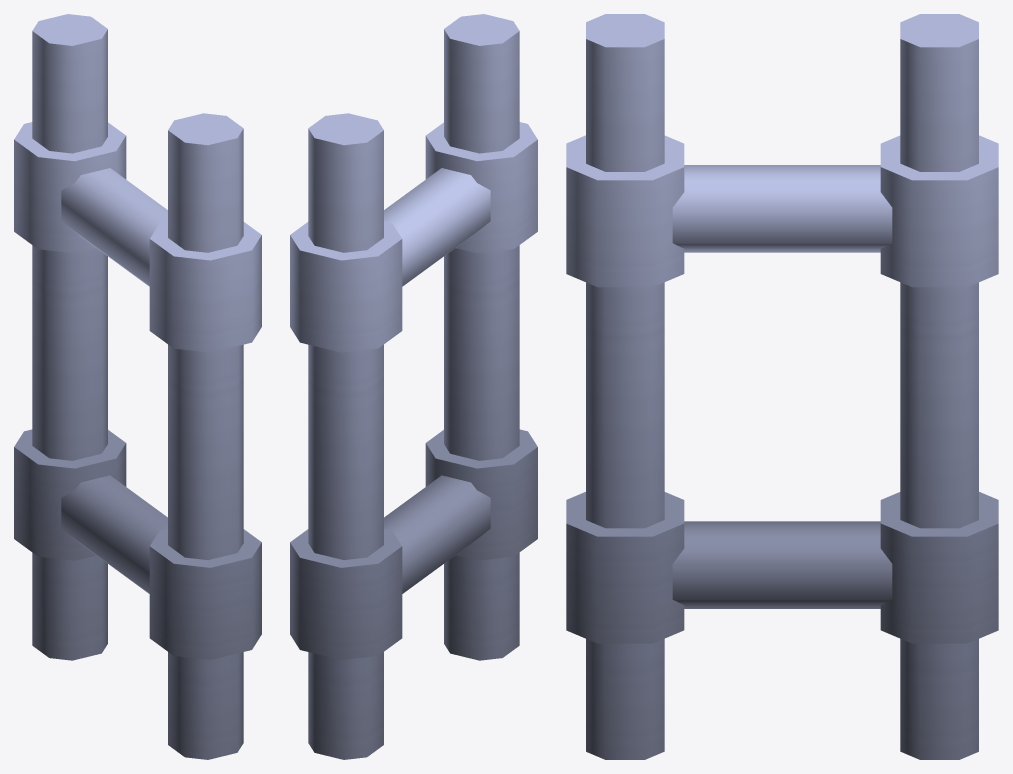
Rendered from ladder.fbx.
The picture shows the model from 3 angles, left to right: view 1: azimuth 30°, elevation 25°; view 2: azimuth 150°, elevation 25°; view 3: azimuth 270°, elevation 25°; orthographic projection. The views are drawn at different scales.
Parts seen in each view (by area): view 1: ladder; view 2: ladder; view 3: ladder.
Part boxes in pixels (x1,y1,x2,y2): ladder: [14, 14, 261, 759]; ladder: [290, 14, 537, 759]; ladder: [566, 14, 998, 759].
Size of the model in its own units: 15 by 100 by 55.
